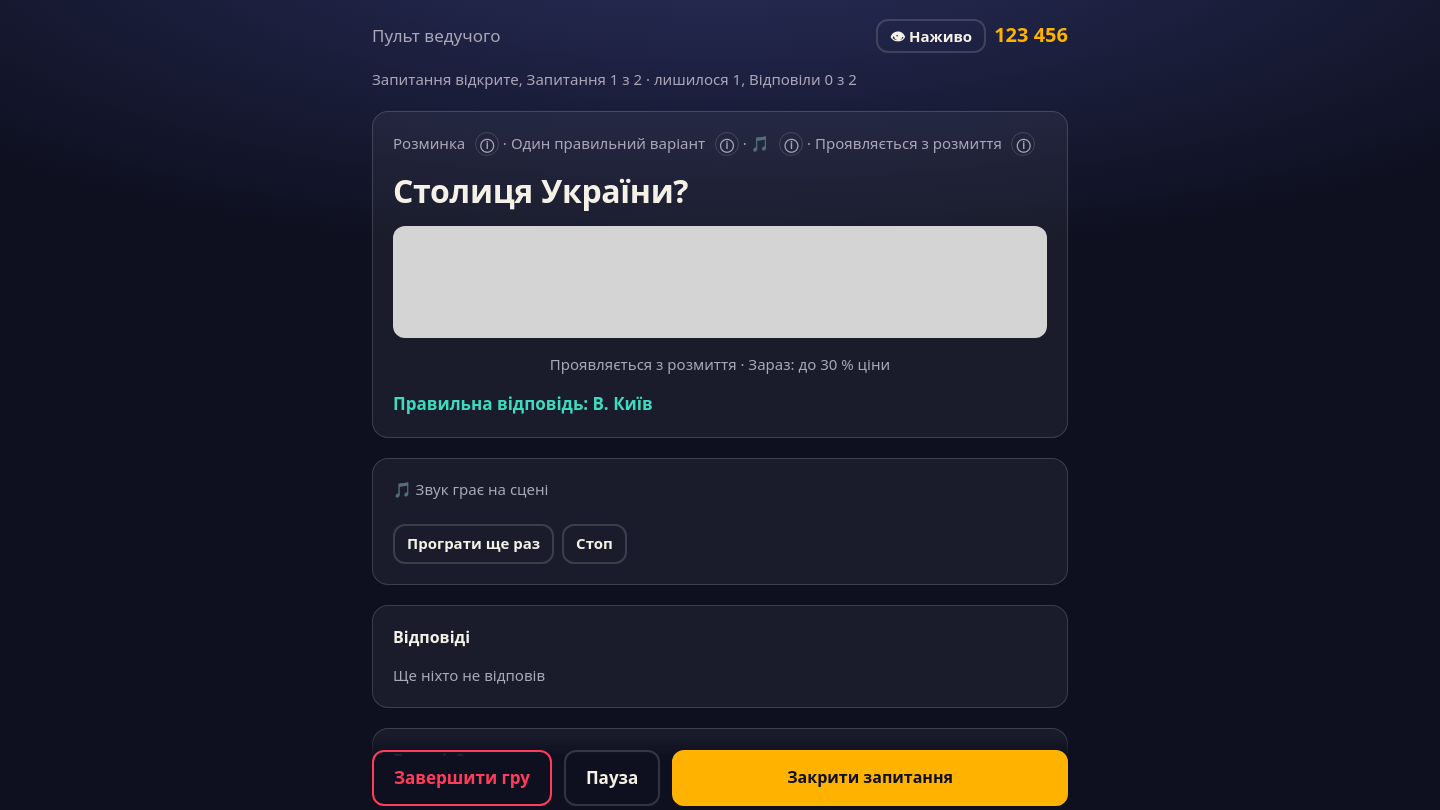
Test: HostScreen media (10b) › the context line has ⓘ for the audio and the revealing picture; pressing them sends nothing
This screenshot has width=1440, height=810.
Click the button named "Довідка: Аудіо до запитання" at (791, 144), box [779,132,803,156]
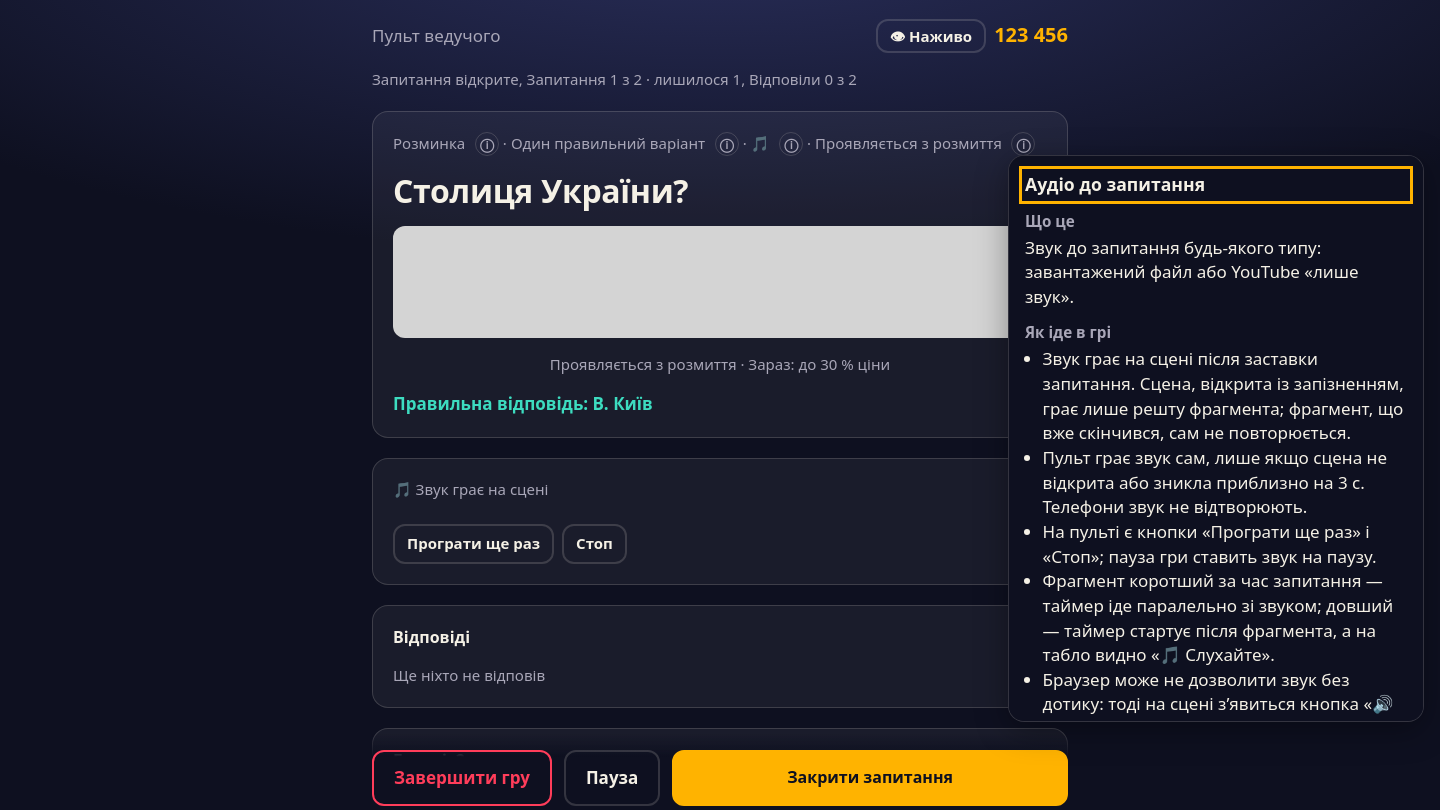
Check: the dialog "Аудіо до запитання" is shown, box [1008,155,1424,722]
Click the button named "Довідка: Картинка, що проявляється" at (1023, 144), box [1011,132,1035,156]
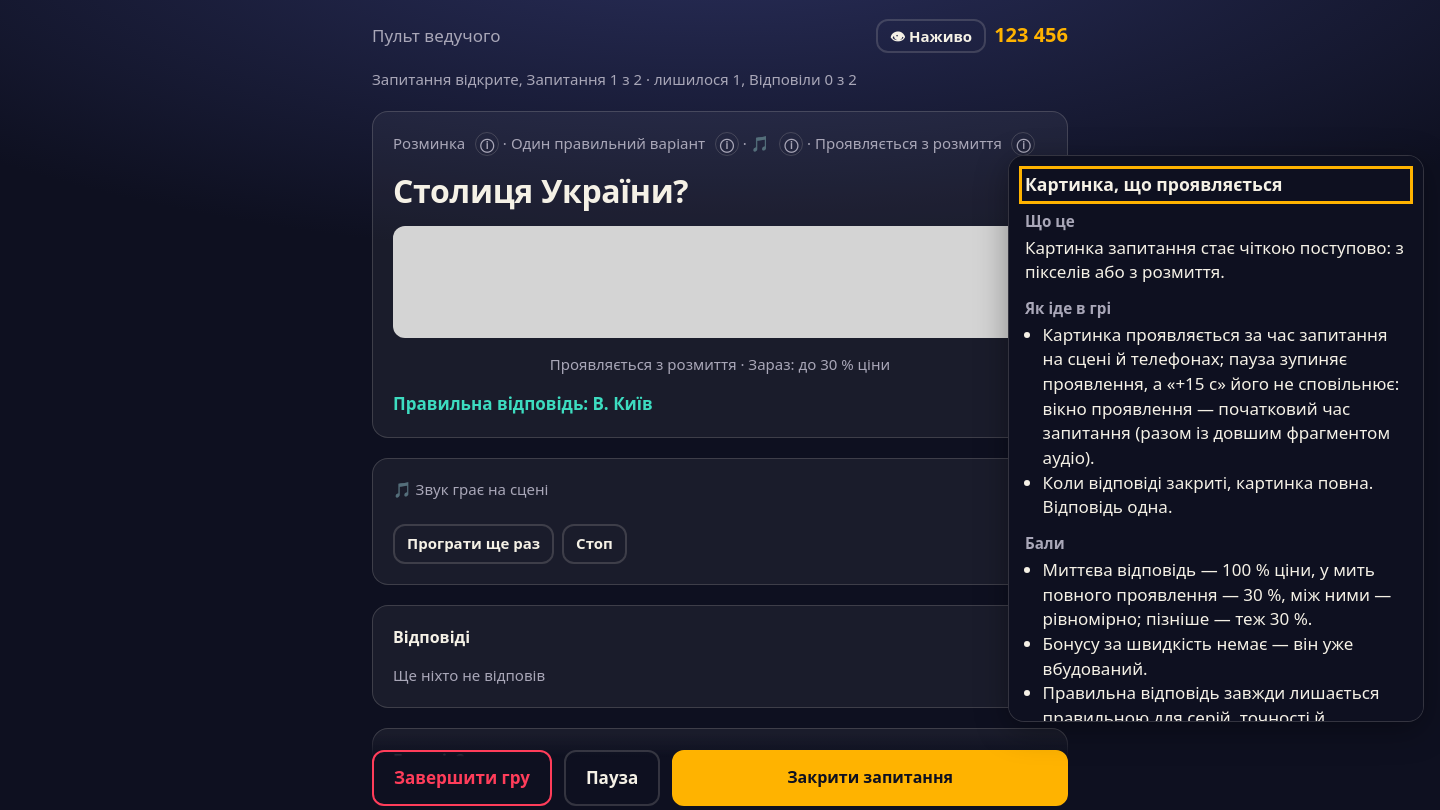
Check: the dialog "Картинка, що проявляється" is shown, box [1008,155,1424,722]
